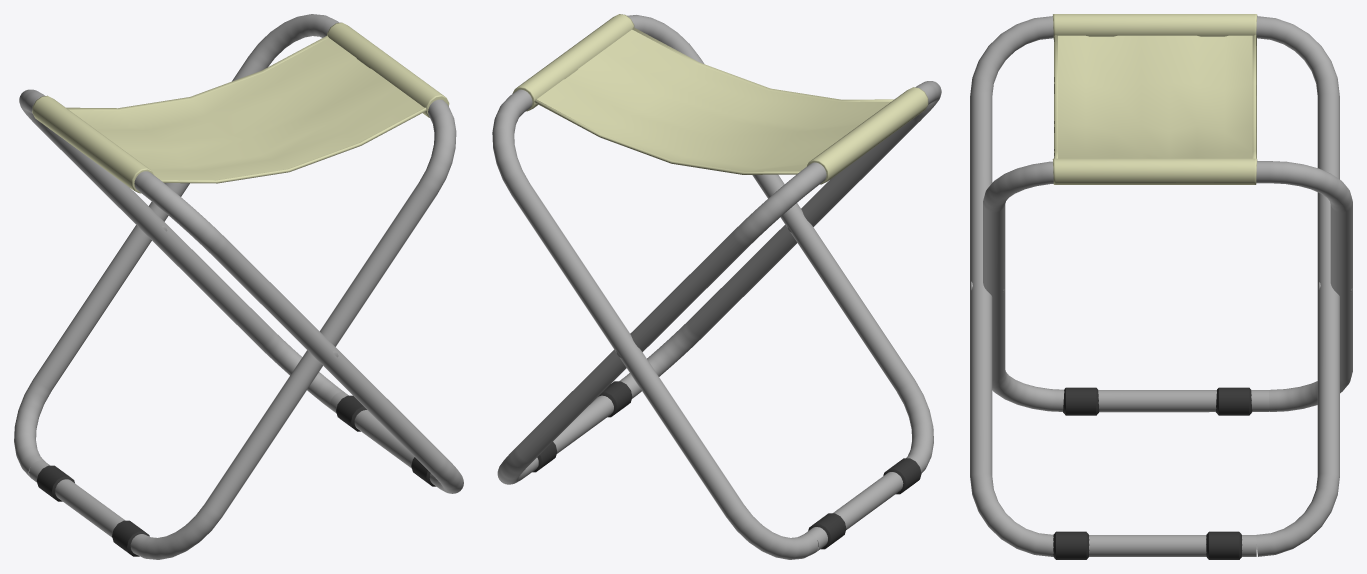
File: FoldingChair_small_Origin.fbx
The picture shows the model from 3 angles, left to right: view 1: azimuth 30°, elevation 25°; view 2: azimuth 150°, elevation 25°; view 3: azimuth 270°, elevation 25°; orthographic projection.
Parts seen in each view (by area): view 1: extrudedSurface3, Plane12, Rectangle03, Rectangle04, Cylinder07, Cylinder06, Cylinder04; view 2: extrudedSurface3, Plane12, Rectangle03, Rectangle04, Cylinder07, Cylinder06, Cylinder05; view 3: extrudedSurface3, Plane12, Rectangle04, Rectangle03, Cylinder05, Cylinder04, Cylinder07, Cylinder06.
Boxes of the visible parts, x1=… form: extrudedSurface3: x1=14, y1=14, x2=463, y2=559; Plane12: x1=66, y1=35, x2=426, y2=183; Rectangle03: x1=32, y1=95, x2=154, y2=193; Rectangle04: x1=327, y1=22, x2=449, y2=117; Cylinder07: x1=36, y1=465, x2=74, y2=501; Cylinder06: x1=112, y1=520, x2=149, y2=556; Cylinder04: x1=336, y1=395, x2=366, y2=431; extrudedSurface3: x1=492, y1=15, x2=941, y2=559; Plane12: x1=534, y1=27, x2=893, y2=174; Rectangle03: x1=807, y1=87, x2=928, y2=184; Rectangle04: x1=512, y1=14, x2=634, y2=111; Cylinder07: x1=808, y1=513, x2=846, y2=549; Cylinder06: x1=883, y1=458, x2=921, y2=494; Cylinder05: x1=598, y1=381, x2=632, y2=417; extrudedSurface3: x1=970, y1=16, x2=1352, y2=556; Plane12: x1=1054, y1=34, x2=1256, y2=158; Rectangle04: x1=1052, y1=158, x2=1257, y2=184; Rectangle03: x1=1053, y1=14, x2=1257, y2=39; Cylinder05: x1=1053, y1=531, x2=1089, y2=559; Cylinder04: x1=1206, y1=531, x2=1242, y2=559; Cylinder07: x1=1216, y1=387, x2=1252, y2=415; Cylinder06: x1=1063, y1=387, x2=1099, y2=415.
Size of the model in its own units: 1299 by 1531 by 1327.
